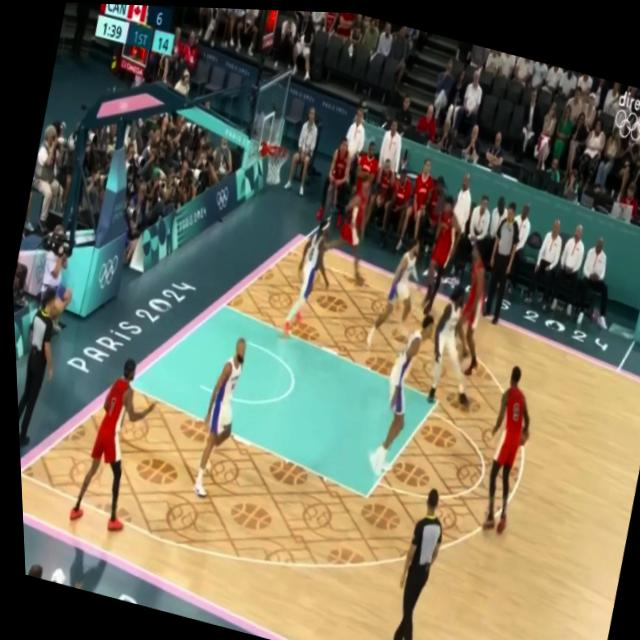ball_handler: (465, 359, 543, 536)
